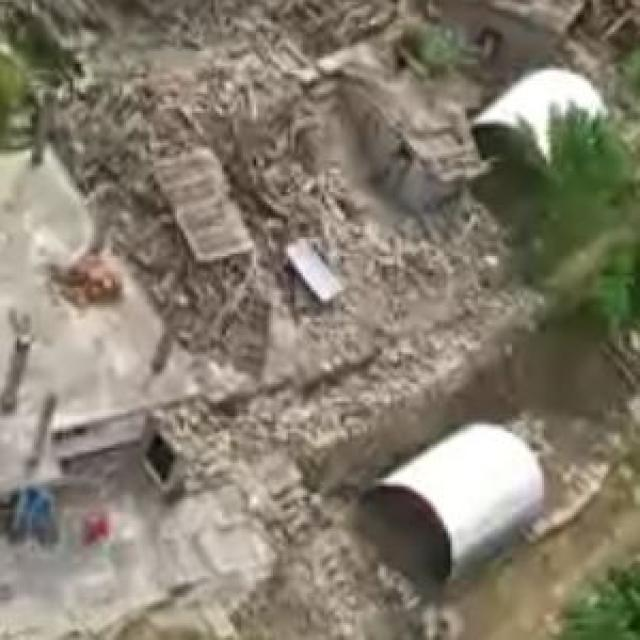collapsed_building: (81, 47, 484, 378)
